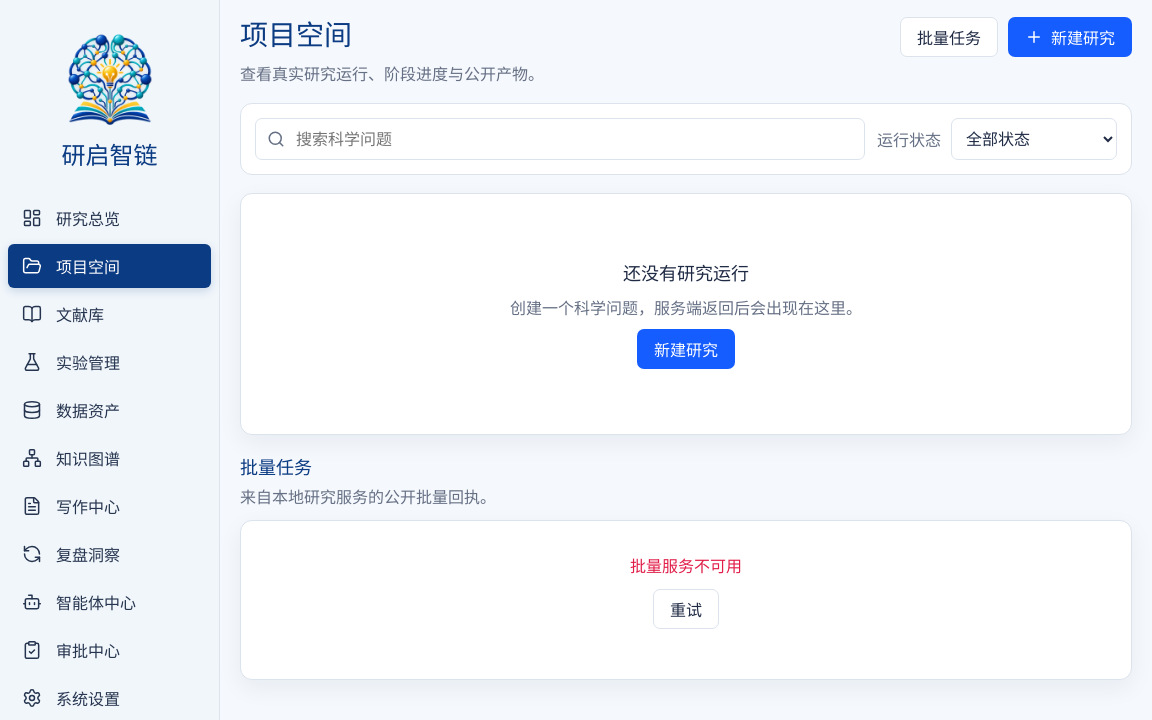
Scenario: renders batch loading, service error retry, and an honest empty state
(page scrolled)
Check: the text "正在加载…" is shown, box top-left (630, 556), bottom-right (742, 629)
Check: the message shows "批量服务不可用", box top-left (630, 556), bottom-right (742, 576)
Click the button "重试": [686, 609] box top-left (653, 589), bottom-right (719, 629)
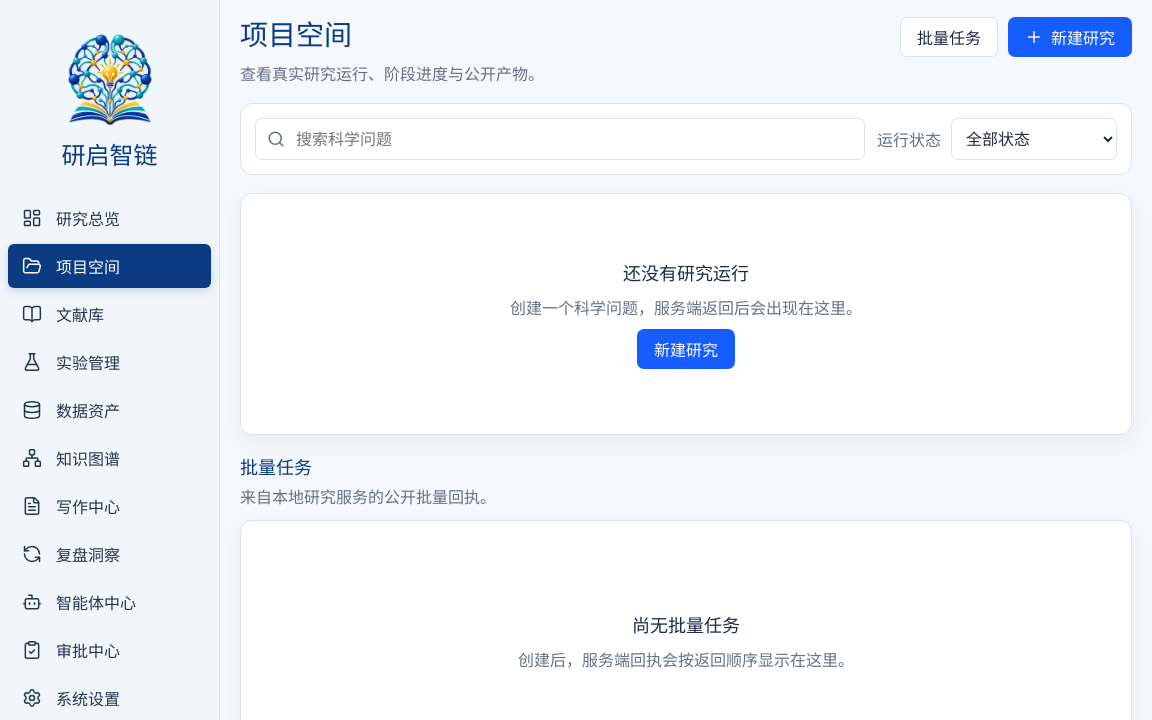
Check: the text "尚无批量任务" is shown, box top-left (632, 611), bottom-right (740, 637)
